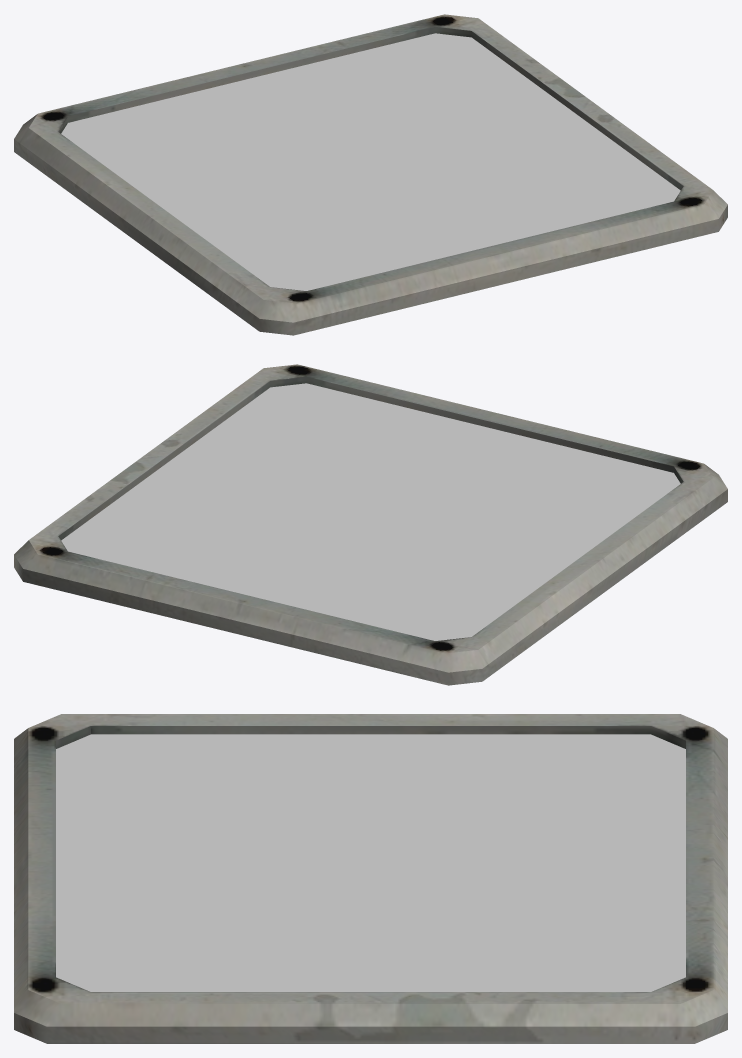
File: LightrailLift.fbx
The picture shows the model from 3 angles, top to bottom: view 1: azimuth 30°, elevation 25°; view 2: azimuth 150°, elevation 25°; view 3: azimuth 270°, elevation 25°; orthographic projection. The views are drawn at different scales.
Parts seen in each view (by area): view 1: LightrailLift; view 2: LightrailLift; view 3: LightrailLift.
Boxes of the visible parts, box(x1,y1,x2,y2) form: LightrailLift: box(14, 14, 727, 335); LightrailLift: box(14, 364, 727, 685); LightrailLift: box(14, 714, 727, 1043).
Bounding box in the file's own units: 242 × 242 × 33.91.
